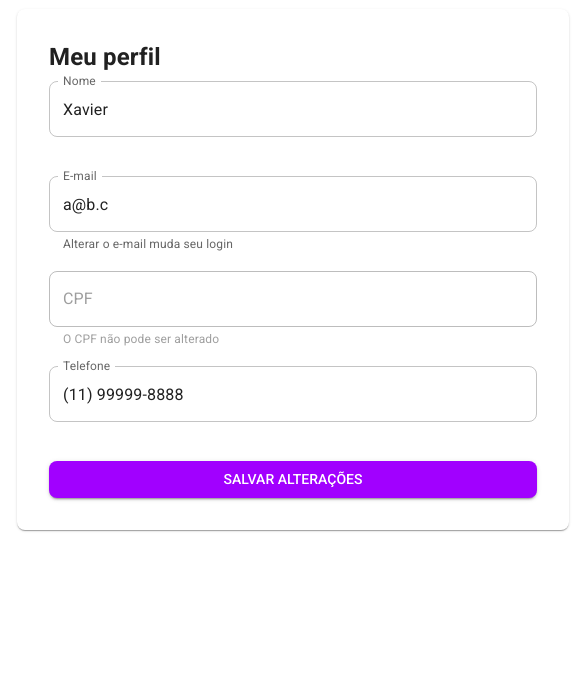
it: Profile › falha no save mostra notify de erro
Expected: the field labelled "Nome" is shown, [49,81,537,137]
Click the button "Salvar alterações".
click(293, 479)  # box [49,461,537,498]
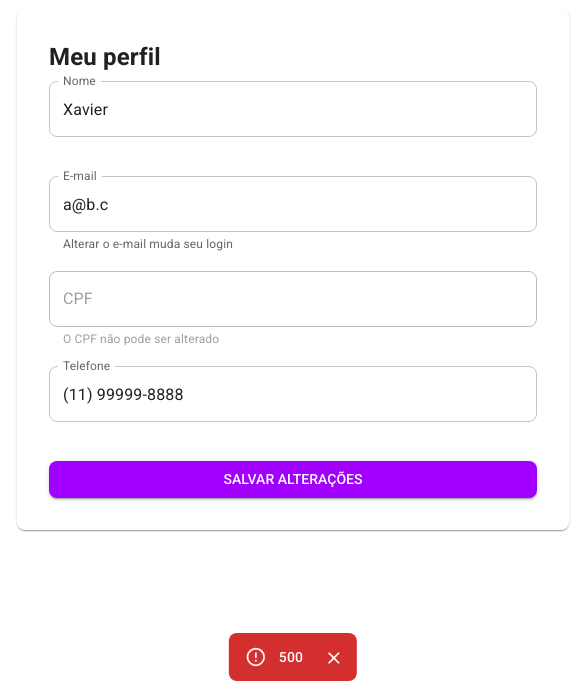
Expected: the text "500" is shown, [279,649,303,665]
